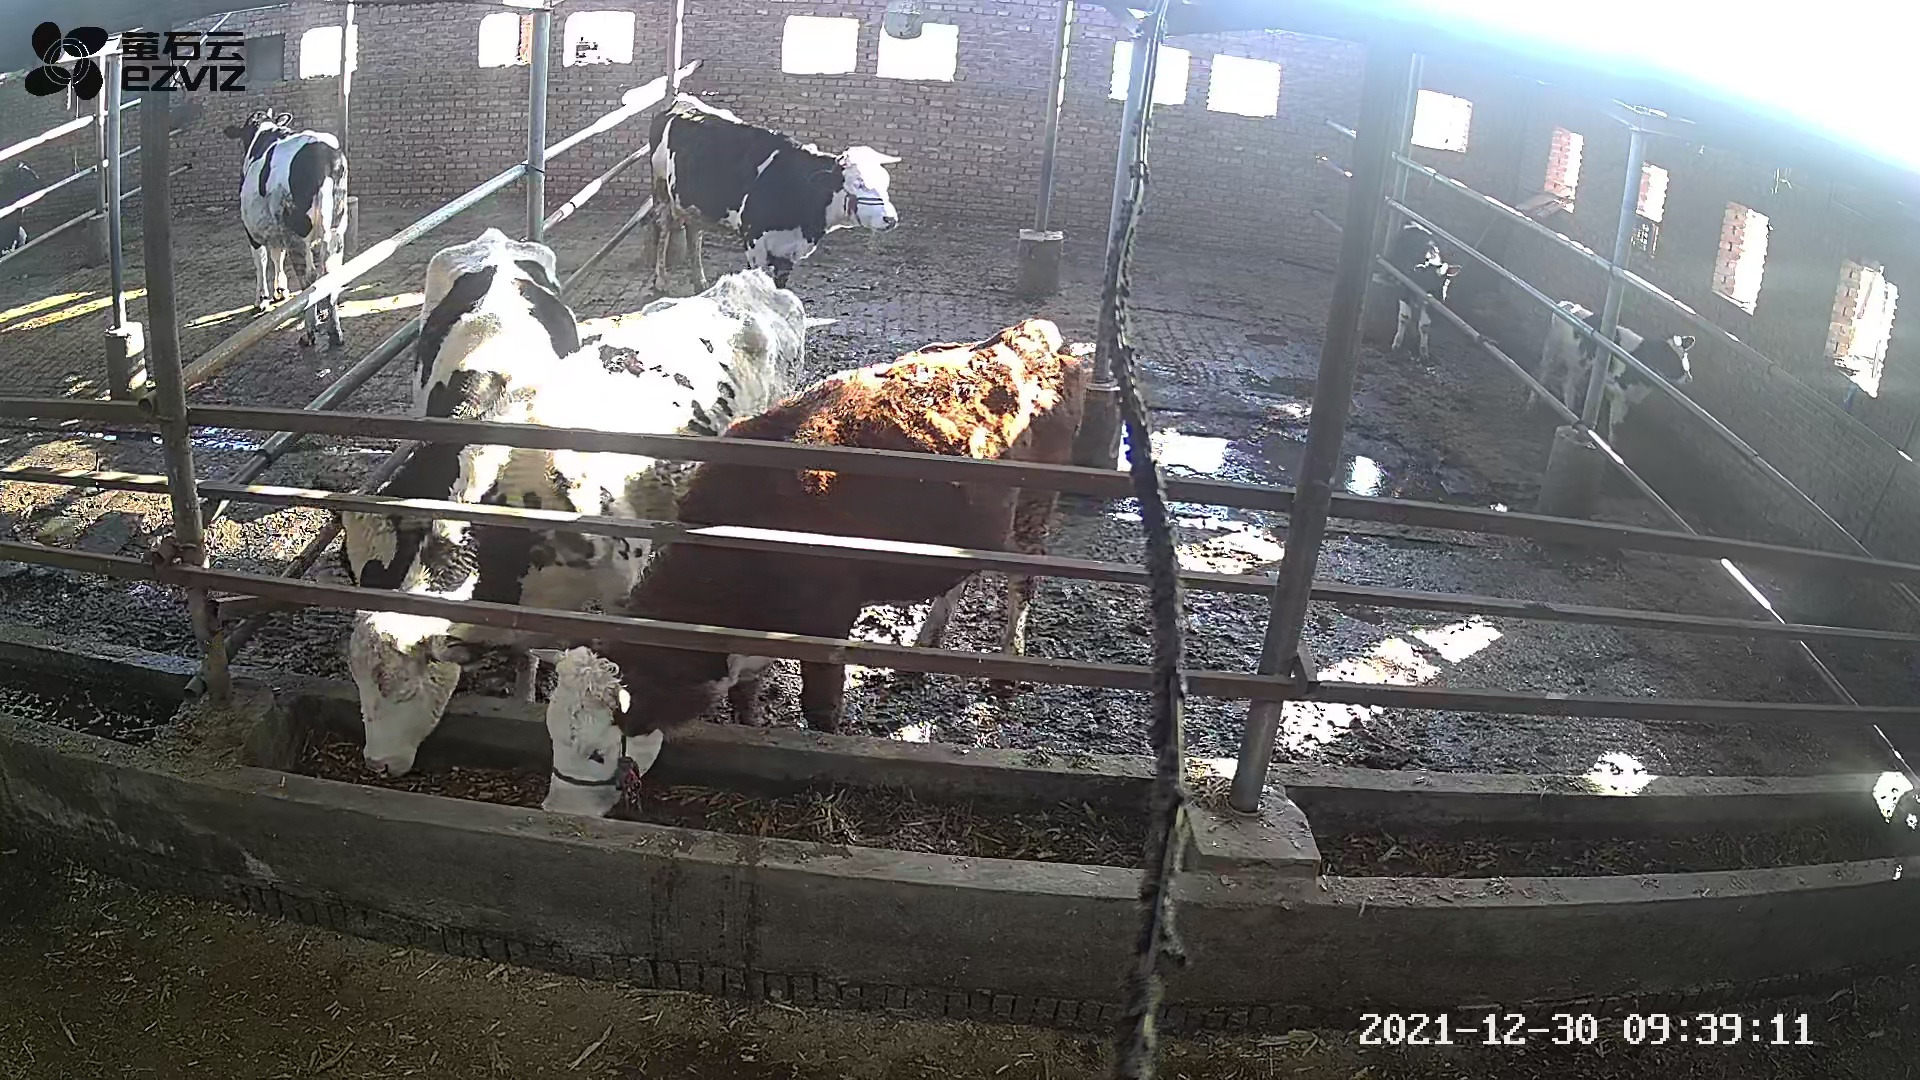cow: (527, 316, 1083, 818), (347, 266, 808, 778), (327, 228, 582, 601), (647, 92, 905, 298)
